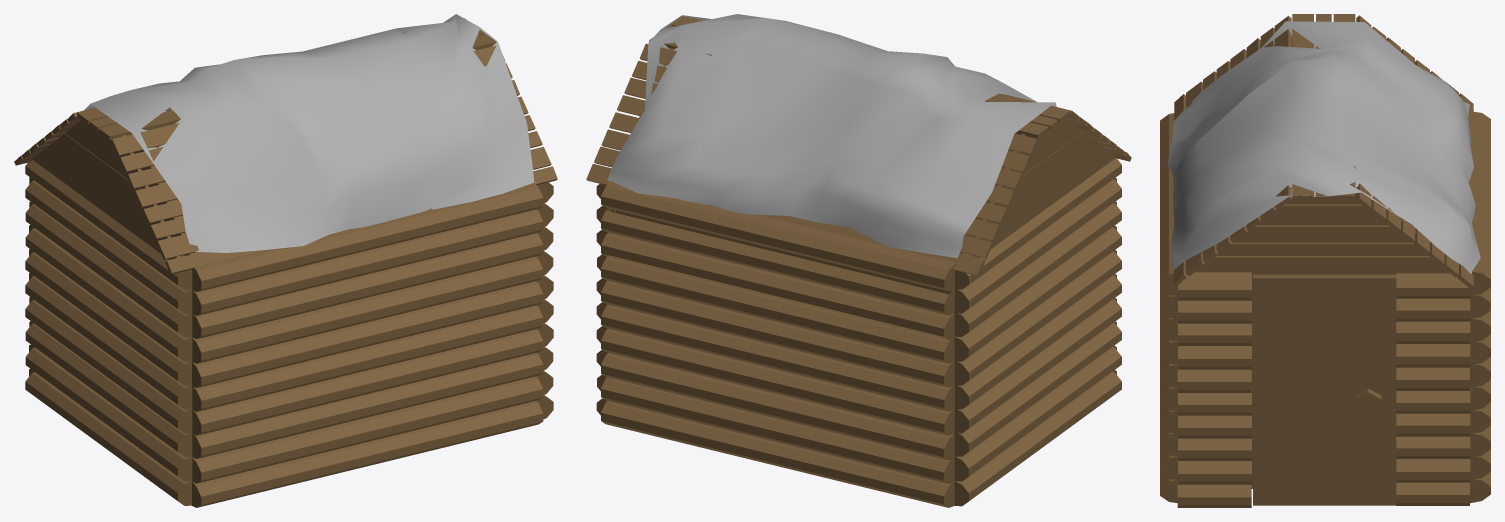
Rendered from cabane_neige.fbx.
3 renders of one model, left to right at view 1: azimuth 30°, elevation 25°; view 2: azimuth 150°, elevation 25°; view 3: azimuth 270°, elevation 25°, orthographic. The views are drawn at different scales.
Parts seen in each view (by area): view 1: cabane1; view 2: cabane1; view 3: cabane1.
Part boxes in pixels (<box>): cabane1: <box>14,14,557,507</box>; cabane1: <box>586,14,1131,507</box>; cabane1: <box>1160,14,1490,507</box>.
Size of the model in its own units: 11.89 by 10.38 by 9.08.
